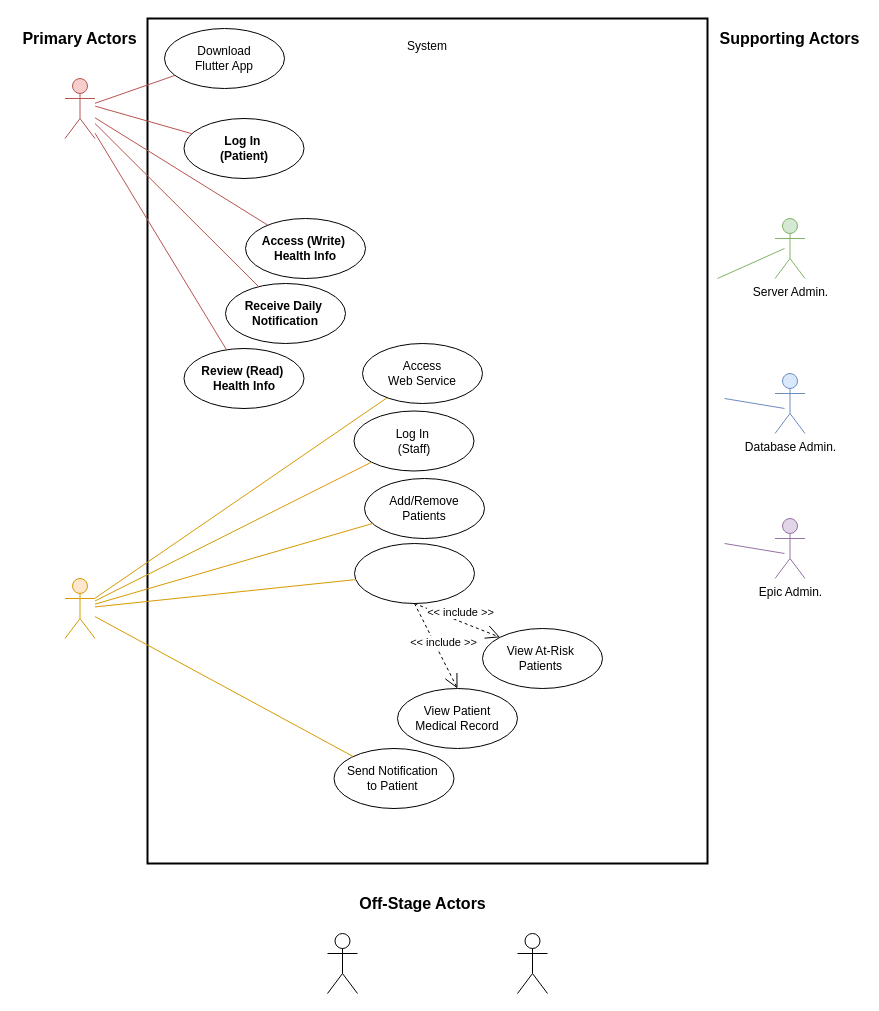
The diagram is 879 pixels wide and 1011 high, and some of its shapes have lost their labels. Here are the shapes that lost their labels. From the top down, the centre of each, then its label:
At (79,108): "Patient".
At (414,573): "View Statistics Summary".
At (79,608): "Medical Staff".
